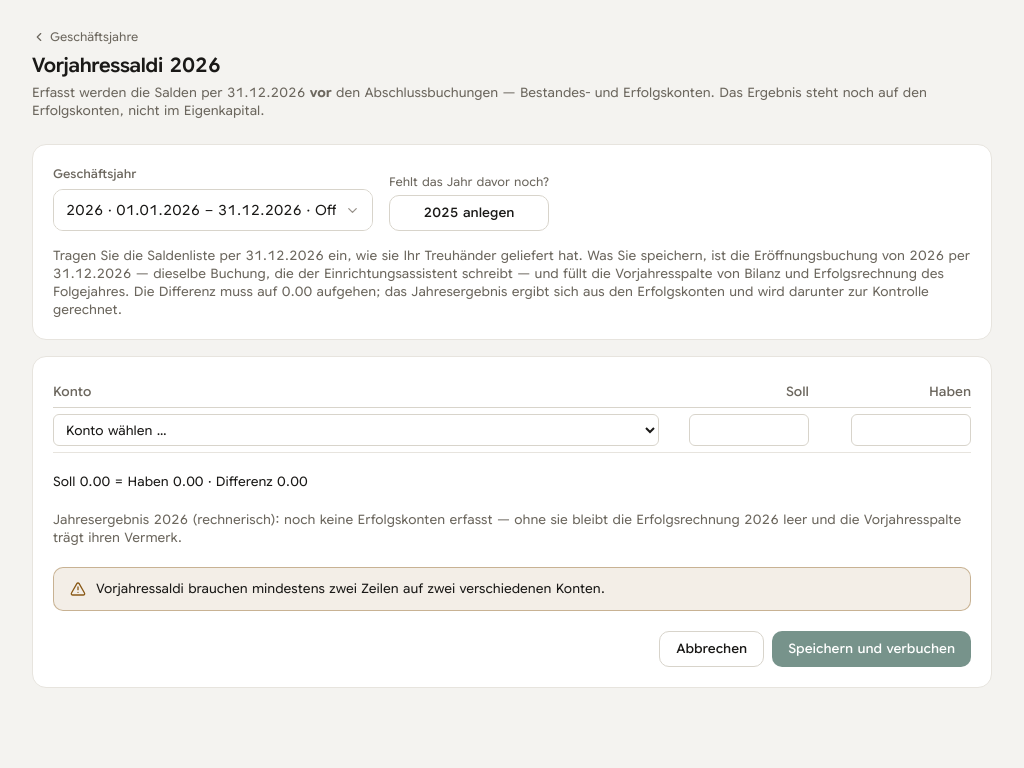
Test case: PriorYearPage › priorYearCreatesTheYearBeforeTest
This screenshot has width=1024, height=768.
Click the button "2025 anlegen": (469, 213) x1=389 y1=195 x2=549 y2=231
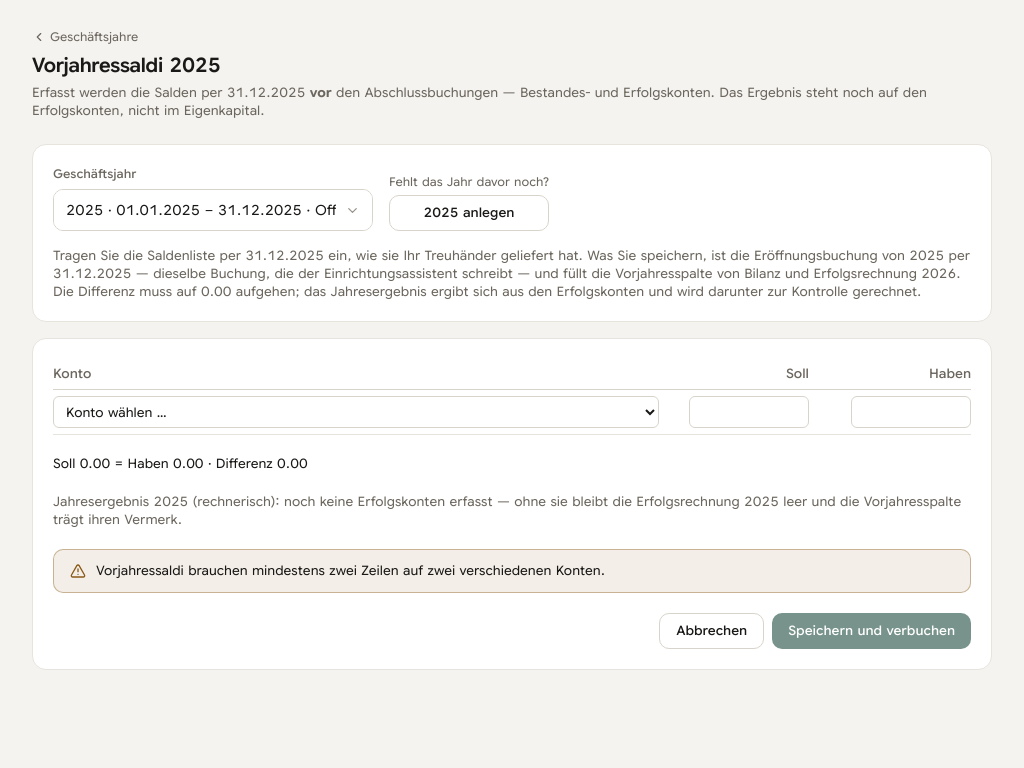
Expected: the text "Vorjahressaldi 2025" is shown, x1=32 y1=53 x2=220 y2=78
